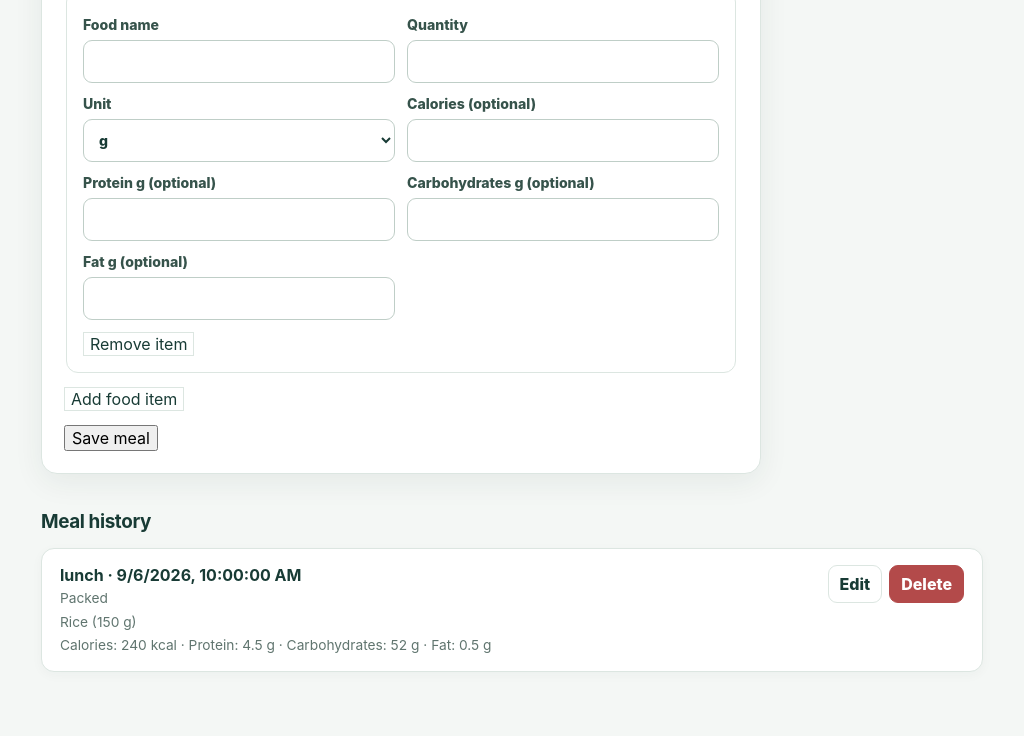
MealsPage › displays entered nutrition values and deletes a meal
(page scrolled)
Check: the text "Rice (150 g)" is shown, box [60,614,137,630]
Check: the text "Calories: 240 kcal" is shown, box [60,636,492,655]
Click the button "Delete": {"x": 927, "y": 584} [889,565,964,603]
(page scrolled)
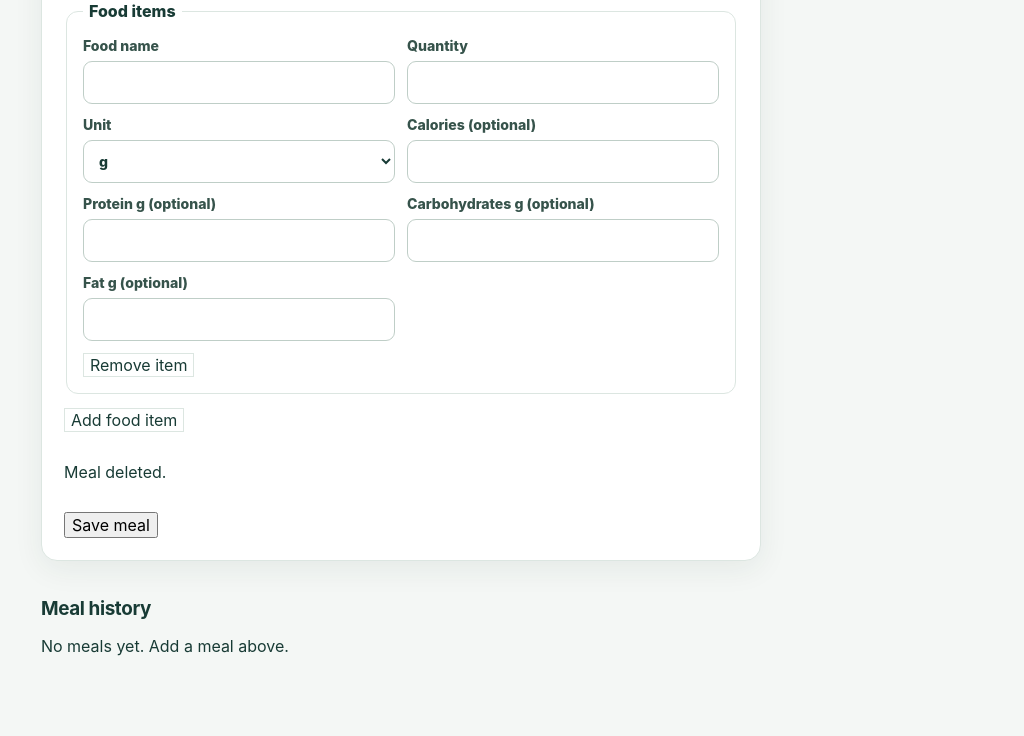
Check: the text "Meal deleted." is shown, box [64,462,166,482]
